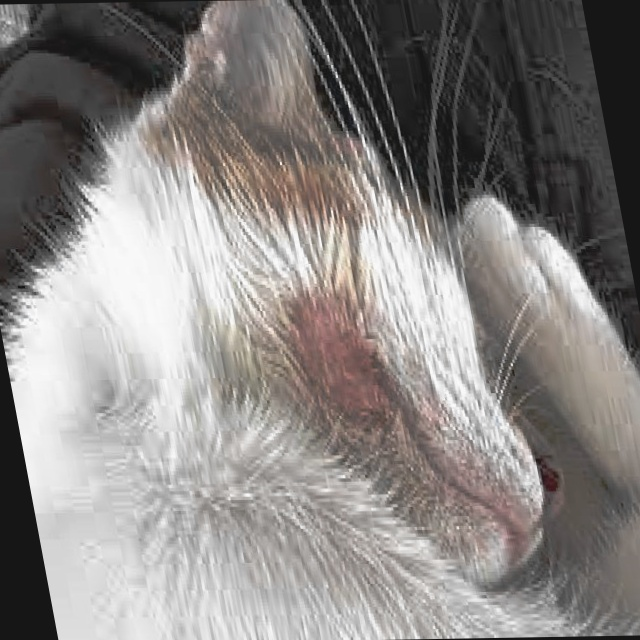ringworm: (289, 309, 401, 421)
